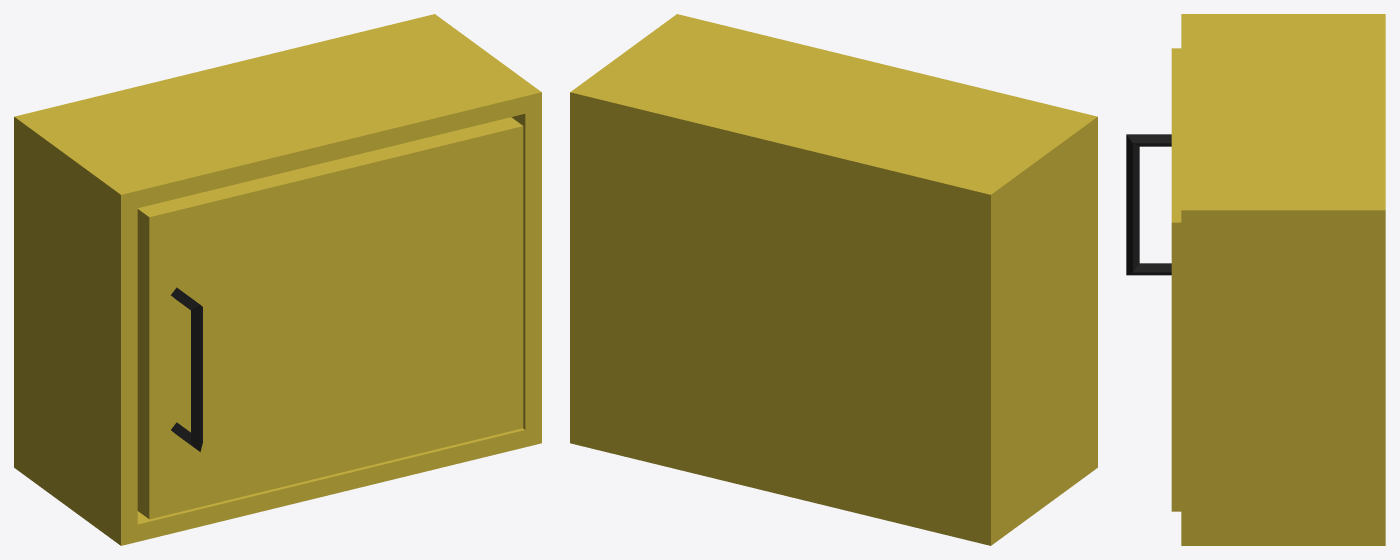
Rendered from SM_fusebox_02.fbx.
3 renders of one model, left to right at view 1: azimuth 30°, elevation 25°; view 2: azimuth 150°, elevation 25°; view 3: azimuth 270°, elevation 25°, orthographic. The views are drawn at different scales.
Parts seen in each view (by area): view 1: Box090; view 2: Box090; view 3: Box090.
Boxes of the visible parts, x1,y1,x2,y2 form: Box090: [14, 14, 541, 545]; Box090: [570, 14, 1097, 545]; Box090: [1126, 14, 1385, 545].
Bounding box in the file's own units: 16.12 × 9 × 12.85.
